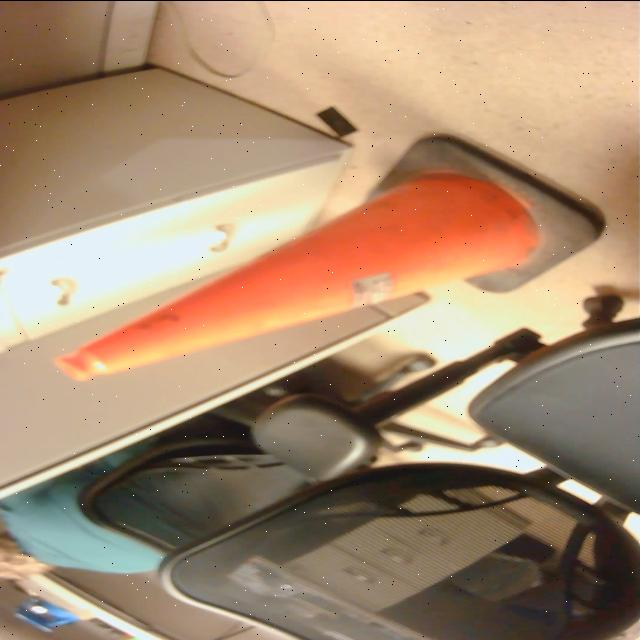traffic cone: (45, 130, 613, 388)
